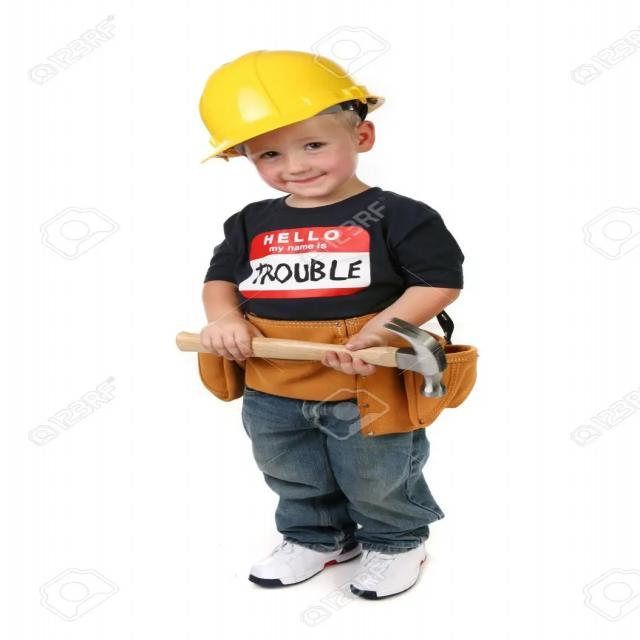hammer: (128, 308, 459, 408)
